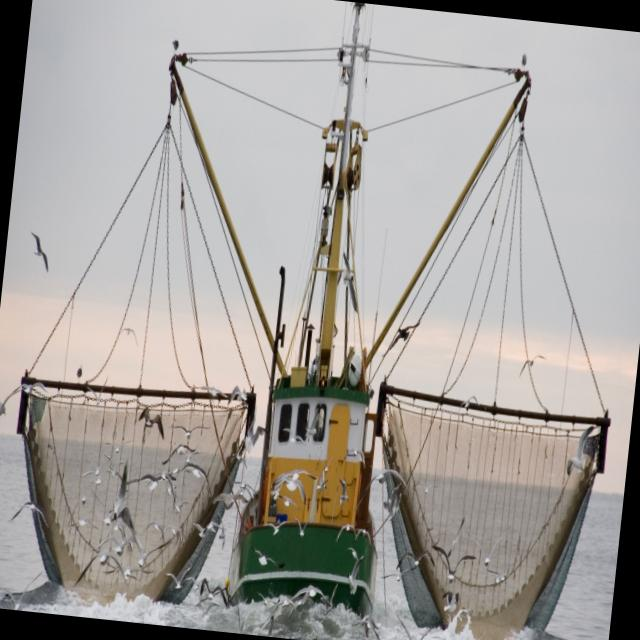boat: (188, 0, 456, 640)
